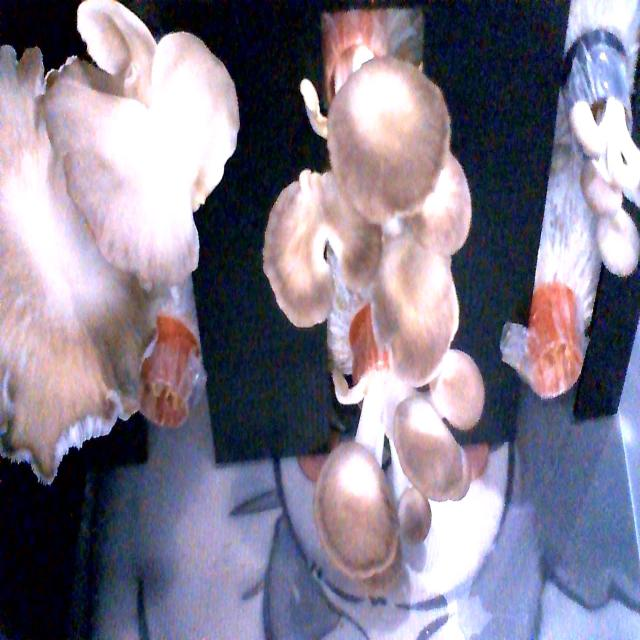big: (0, 1, 241, 477), (251, 54, 477, 390), (321, 350, 485, 583)
nfound: (134, 336, 197, 454), (530, 318, 583, 412)
small: (559, 69, 640, 283)
